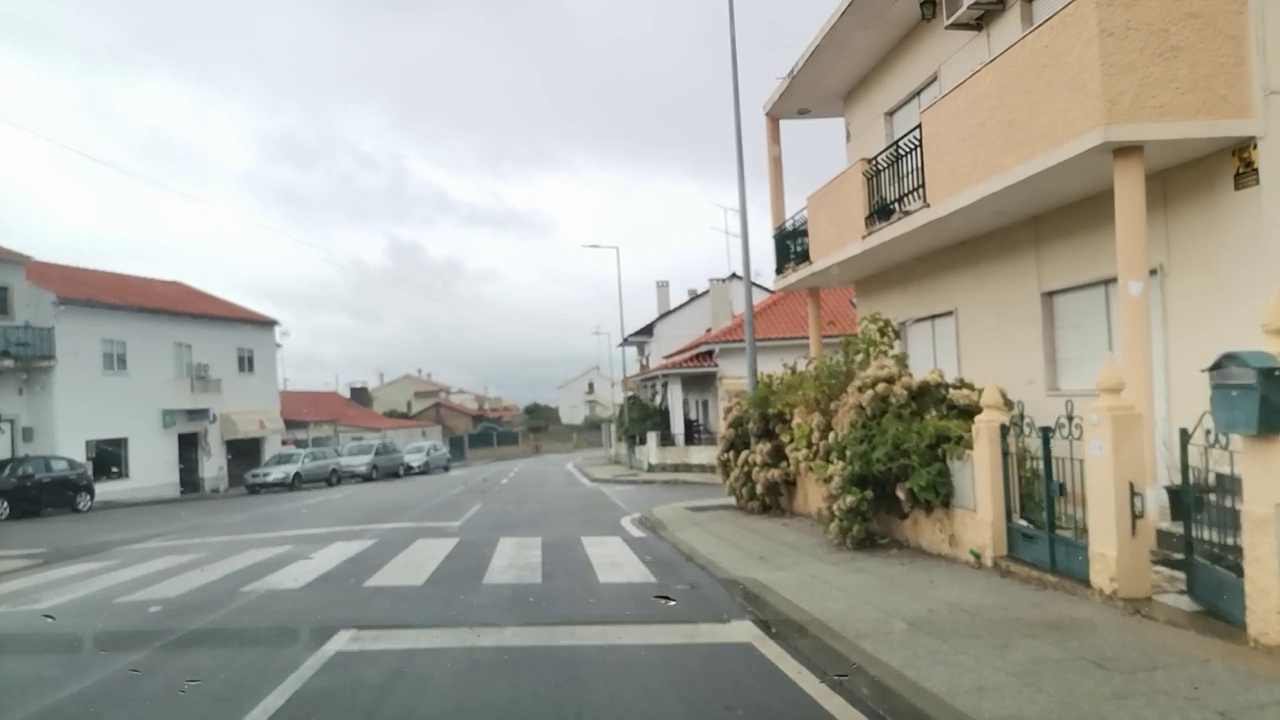Stairs: (0, 532, 657, 612)
